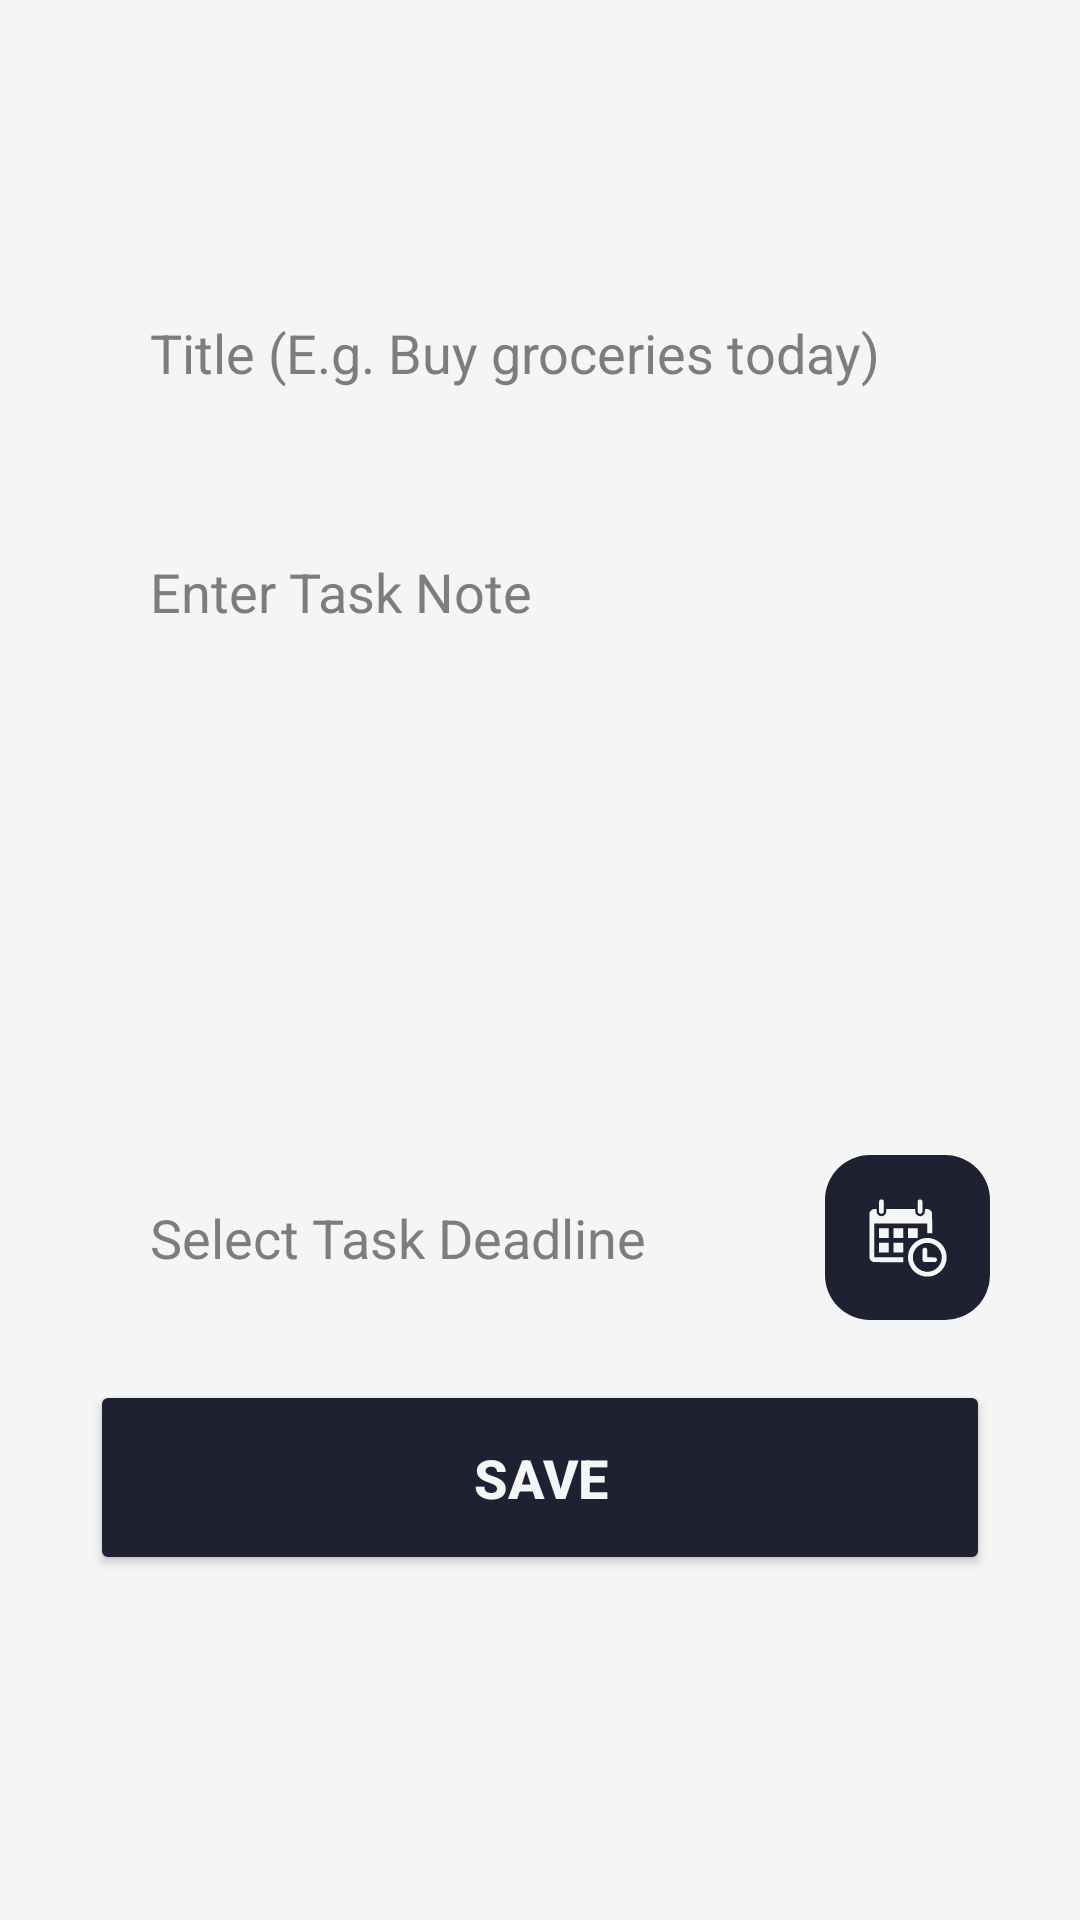

Screen size 1080×1920. Icon name, then its center in pixels as (x=x, y=y):
calendar time: (x=907, y=1237)
